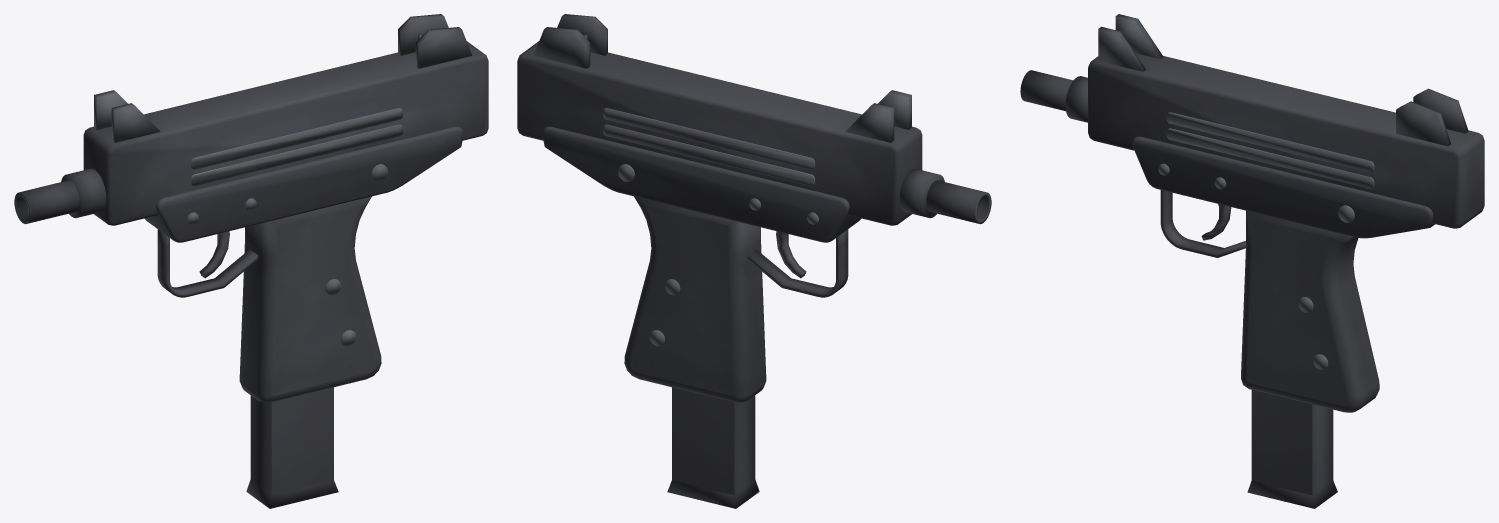
The model's file is smg.fbx.
3 views of the same model, side by side, from view 1: azimuth 30°, elevation 25°; view 2: azimuth 150°, elevation 25°; view 3: azimuth 330°, elevation 25° (orthographic). The views are drawn at different scales.
Parts seen in each view (by area): view 1: uzi, cart, trigger; view 2: uzi, cart, trigger; view 3: uzi, cart.
Part boxes in pixels (<box>): uzi: <box>14,14,488,402</box>; cart: <box>246,387,338,508</box>; trigger: <box>199,231,229,278</box>; uzi: <box>517,14,991,402</box>; cart: <box>667,387,759,508</box>; trigger: <box>776,231,806,278</box>; uzi: <box>1020,14,1484,412</box>; cart: <box>1247,389,1337,508</box>.
Bounding box in the file's own units: 23.57 × 21.62 × 2.97.
1 material, 1 textured.
